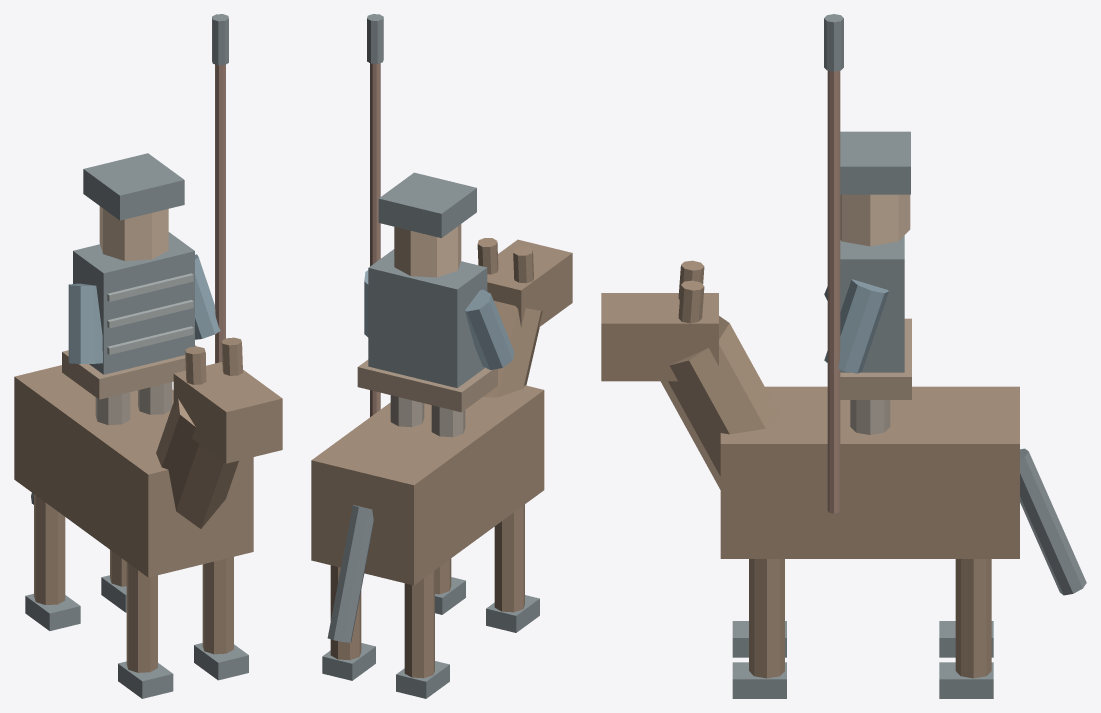
File: cavalry.glb
3 renders of one model, left to right at view 1: azimuth 30°, elevation 25°; view 2: azimuth 150°, elevation 25°; view 3: azimuth 270°, elevation 25°, orthographic. The views are drawn at different scales.
Size of the model in its own units: 1.09 by 4.2 by 2.68.
